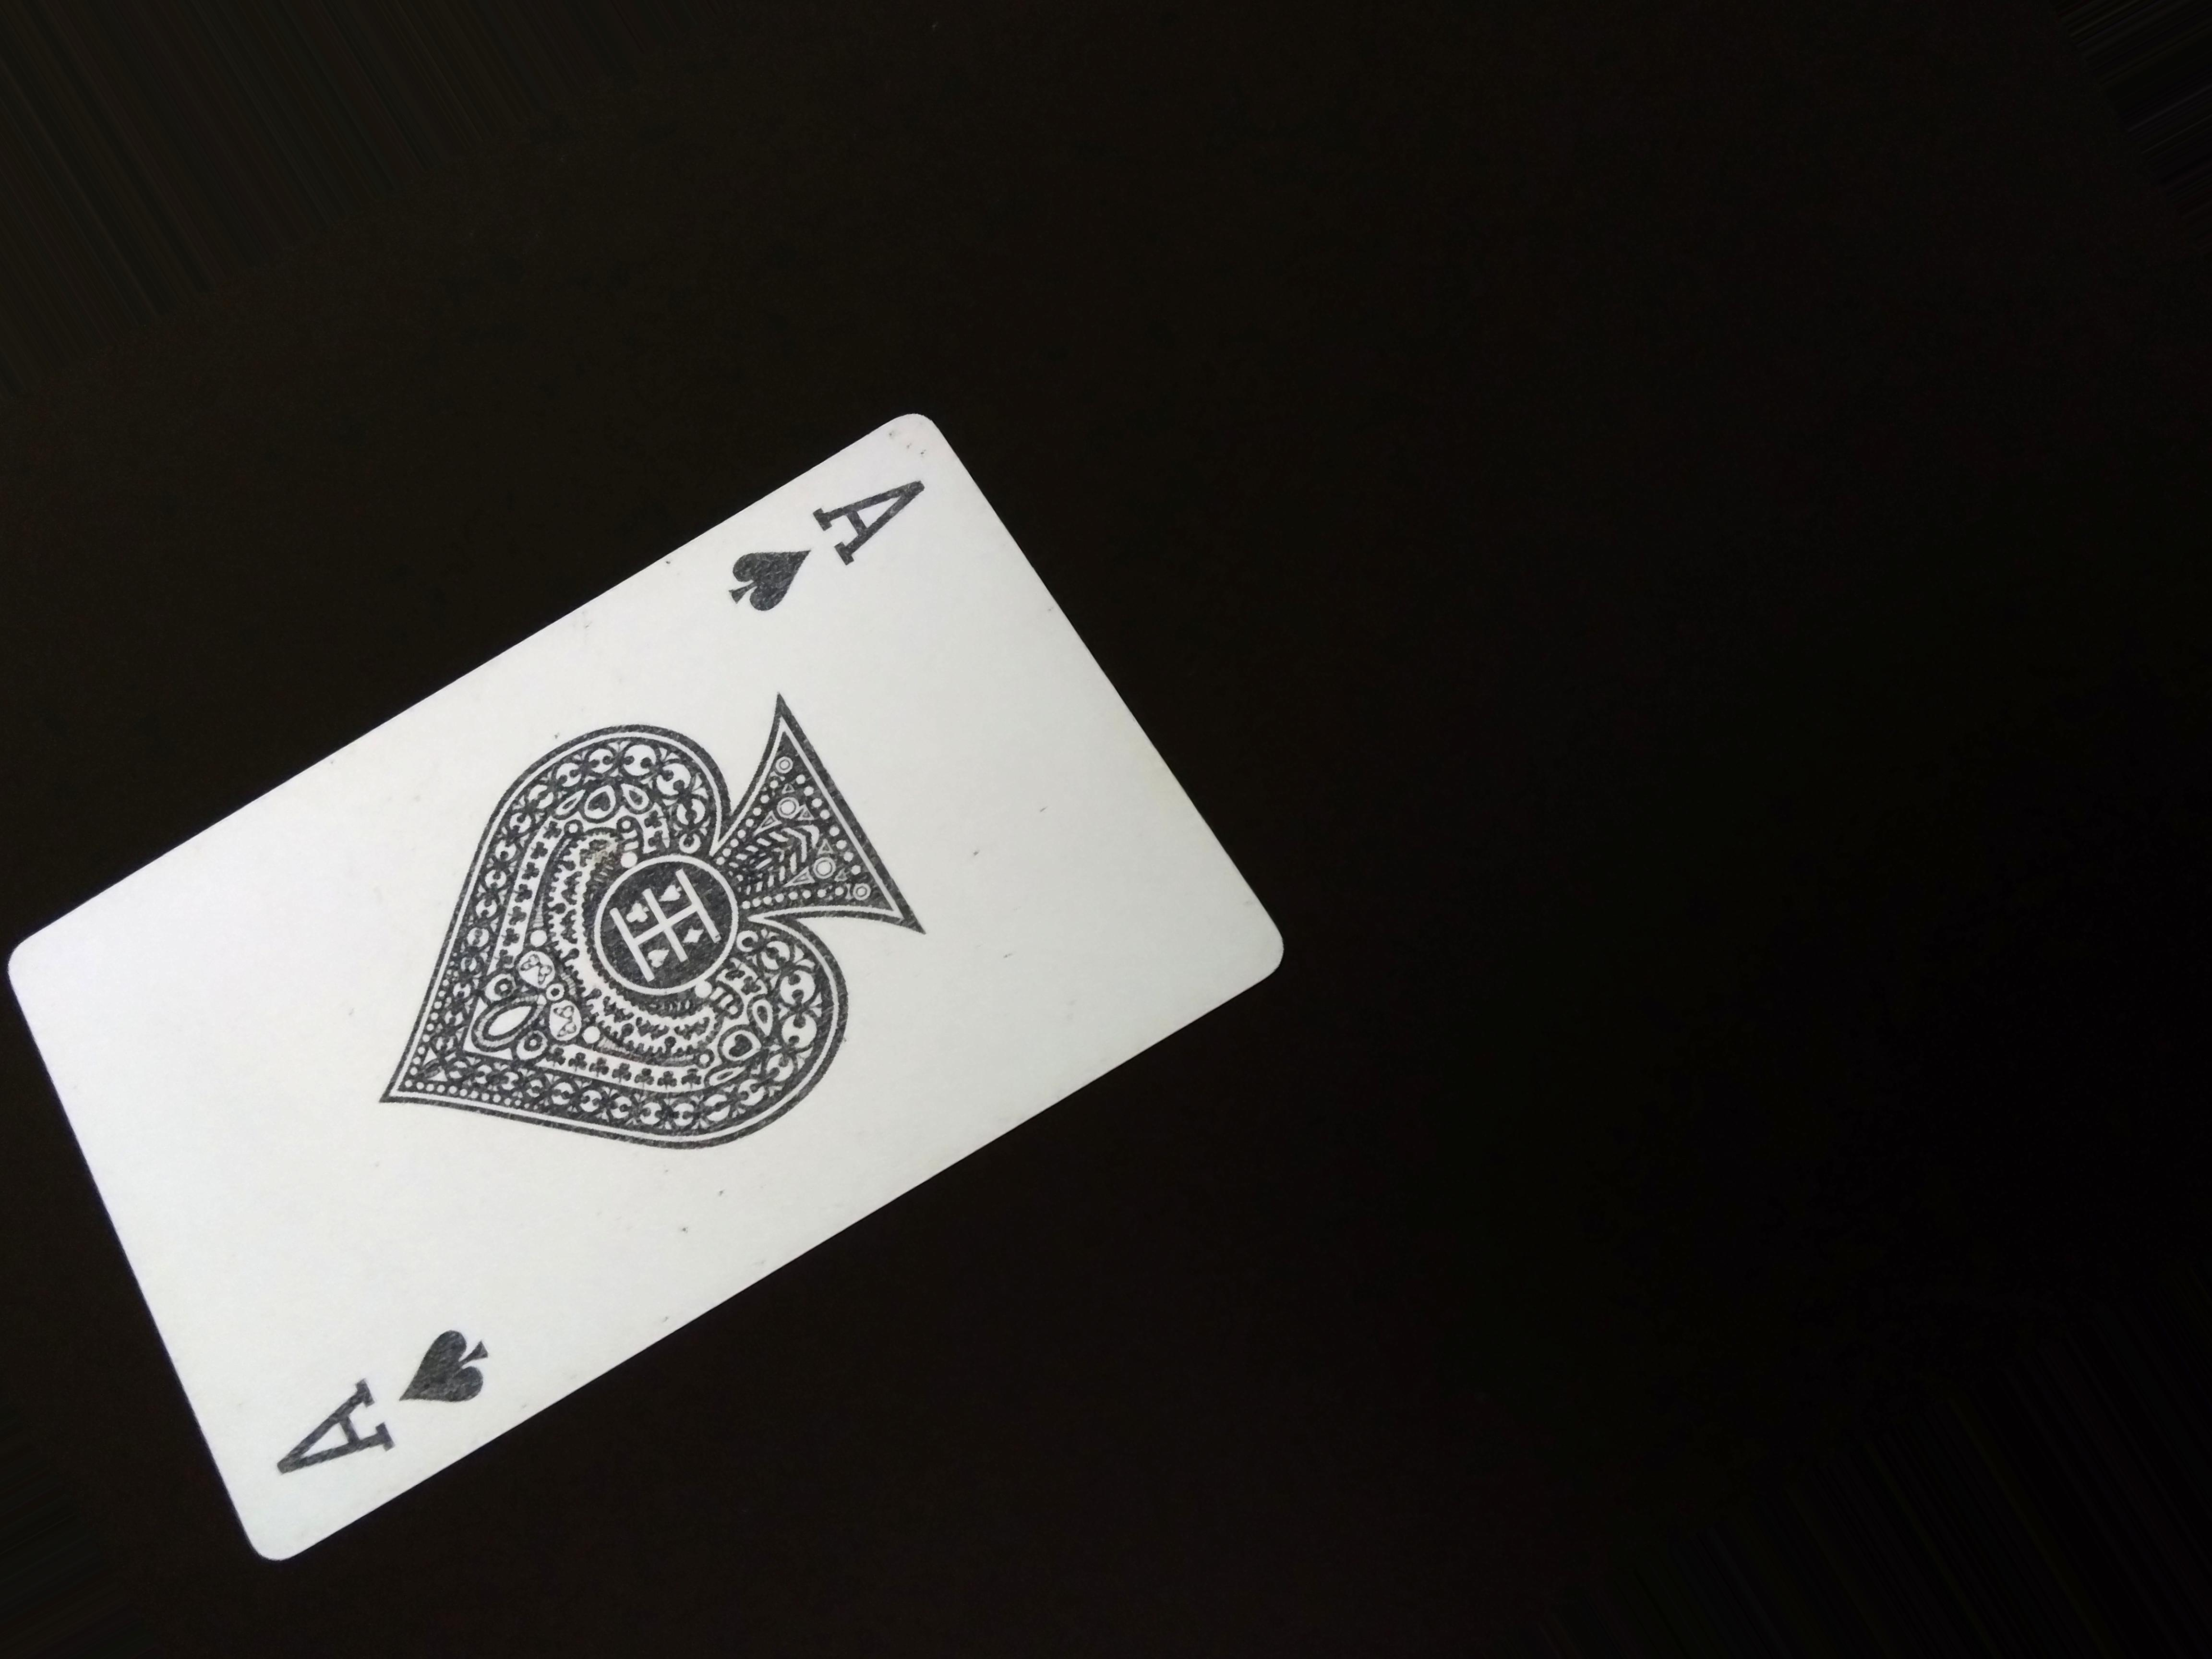AS: (728, 446, 935, 626)
